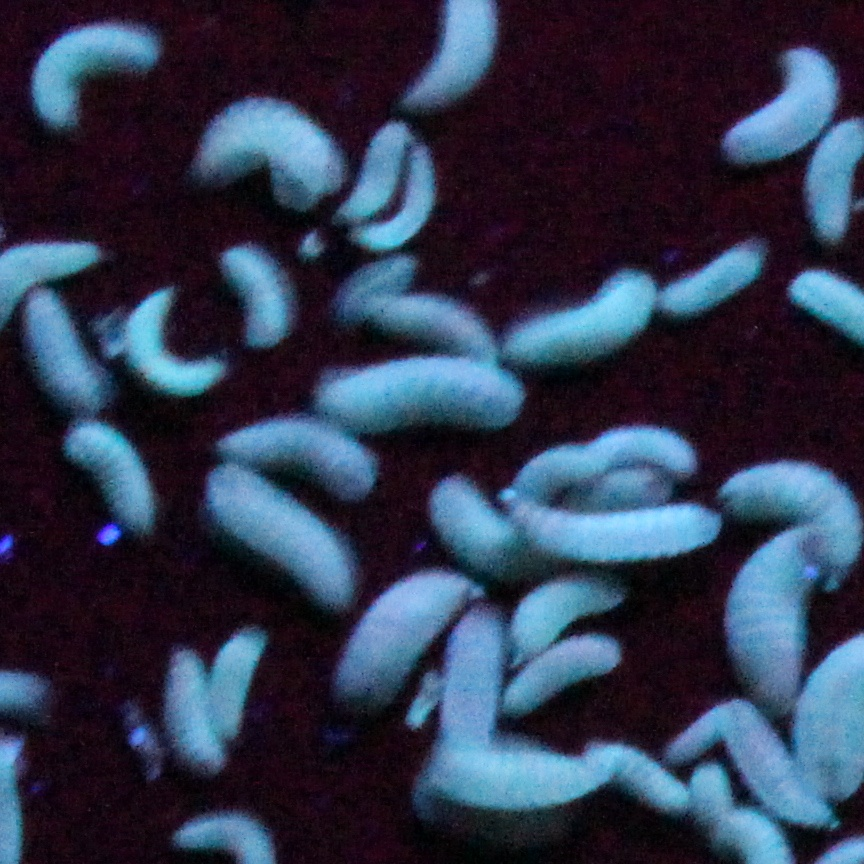larve: (181, 85, 341, 211), (21, 17, 165, 141), (214, 488, 348, 611), (513, 259, 655, 374), (351, 560, 441, 703), (313, 366, 511, 427), (62, 415, 162, 534), (18, 297, 125, 406), (740, 531, 809, 696), (515, 502, 718, 557), (717, 40, 814, 146), (142, 650, 220, 778), (211, 243, 297, 350), (444, 617, 511, 750), (132, 292, 209, 404), (435, 755, 597, 808), (660, 232, 762, 316), (213, 436, 370, 487), (738, 455, 844, 523), (379, 294, 492, 352), (513, 652, 620, 711), (608, 743, 683, 818), (451, 480, 506, 580), (228, 634, 279, 738), (728, 704, 790, 785), (356, 125, 404, 222), (518, 574, 593, 634), (593, 435, 701, 472), (515, 448, 594, 486)
